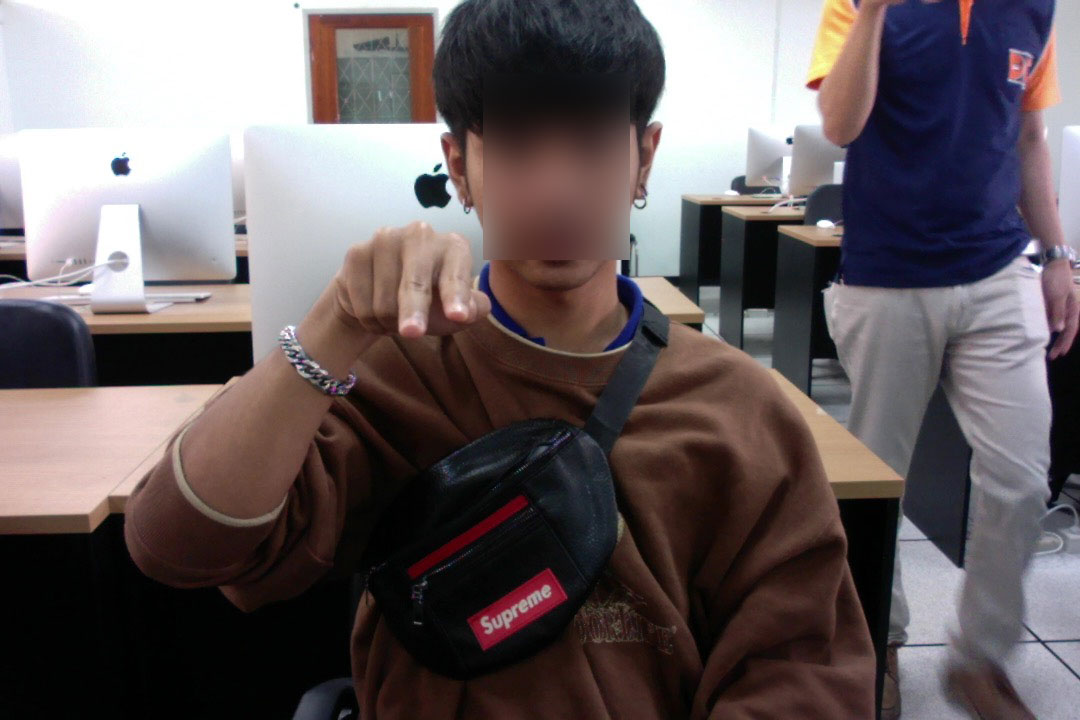por: (329, 215, 495, 354)
